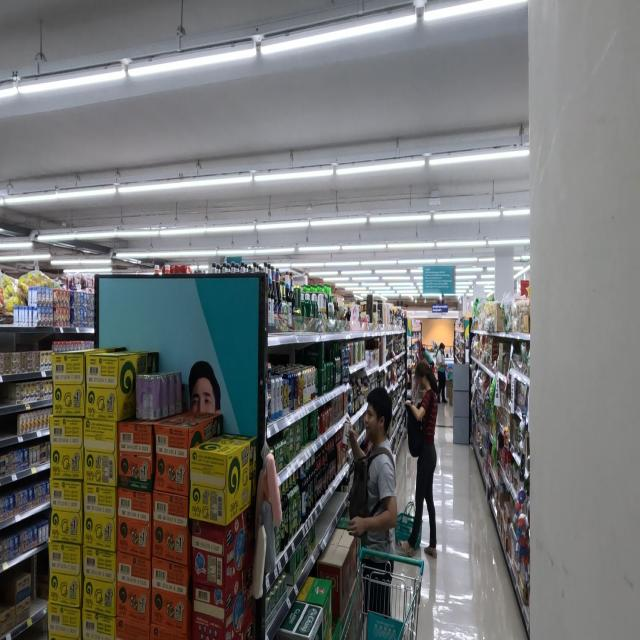shoplifting: (342, 390, 399, 591), (406, 362, 438, 553)
